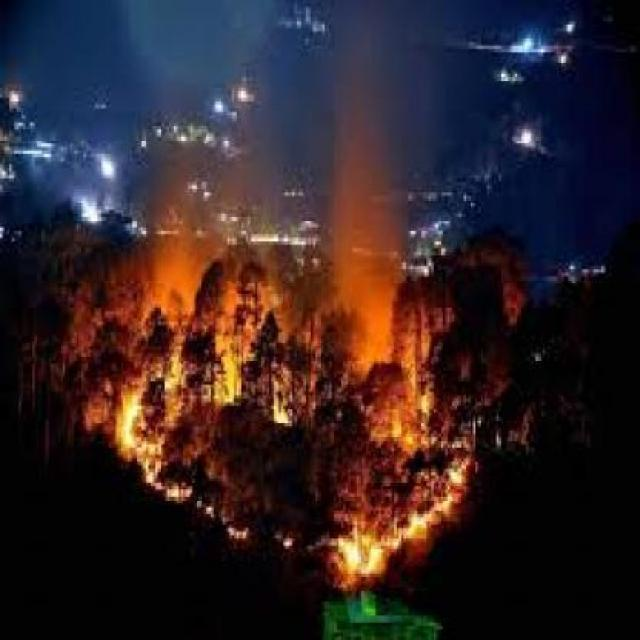Fire: (36, 354, 284, 568), (324, 357, 505, 598)
